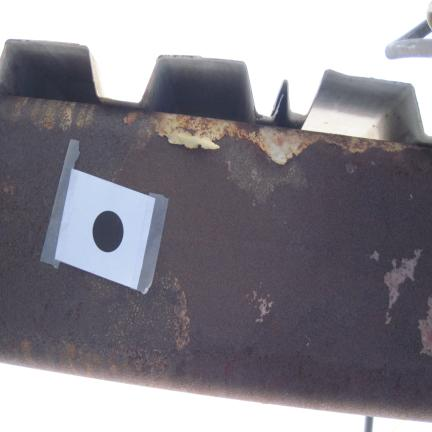karat: (153, 114, 327, 164), (384, 250, 422, 324)
